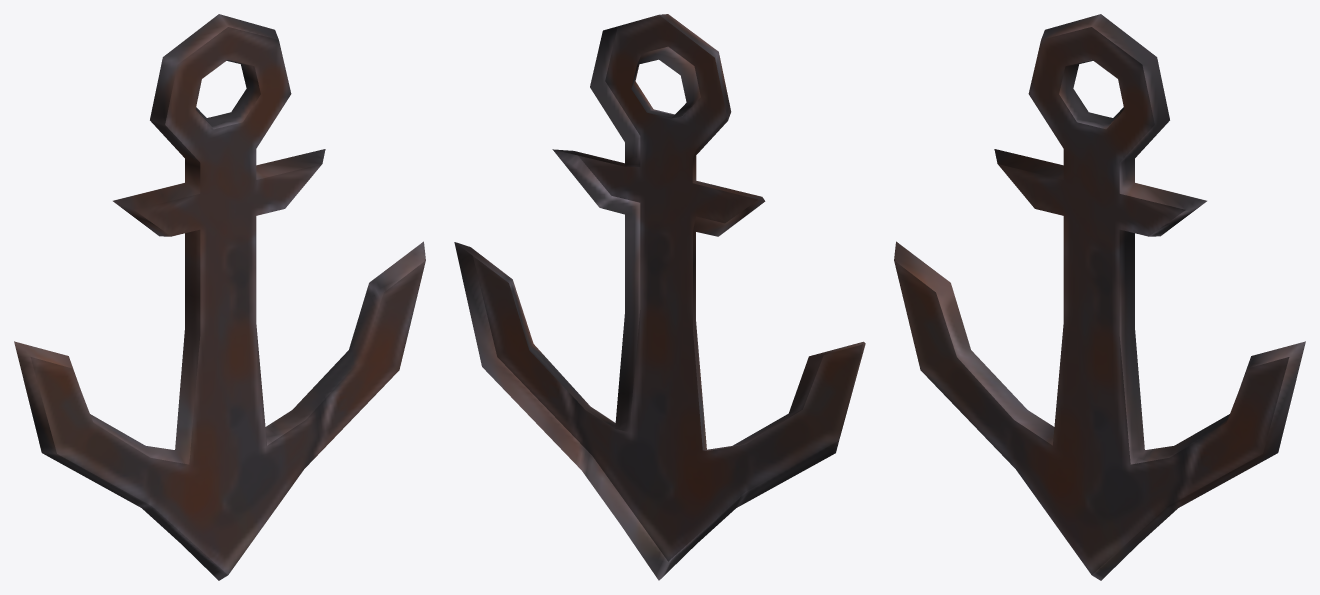
File: ship_etc_1.FBX
3 views of the same model, side by side, from view 1: azimuth 30°, elevation 25°; view 2: azimuth 150°, elevation 25°; view 3: azimuth 330°, elevation 25° (orthographic).
Parts seen in each view (by area): view 1: Object003; view 2: Object003; view 3: Object003.
Part boxes in pixels (<box>): Object003: <box>14,14,425,580</box>; Object003: <box>454,14,865,580</box>; Object003: <box>894,14,1305,580</box>.
Size of the model in its own units: 231 by 9.06 by 305.
